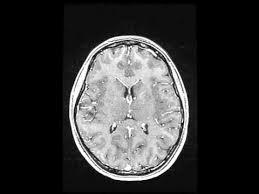Normal_Brain: (1, 1, 259, 194)
